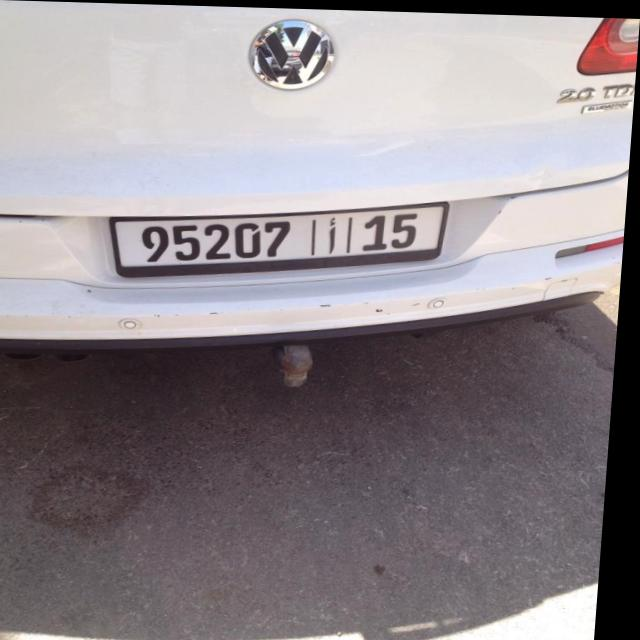License-Plate: (114, 200, 450, 276)
